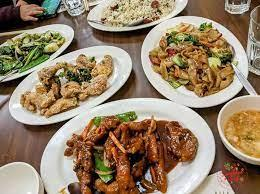Braised Crucian Carp: (39, 97, 216, 192), (140, 15, 247, 108), (8, 44, 130, 124), (0, 23, 75, 83), (86, 0, 186, 31)
